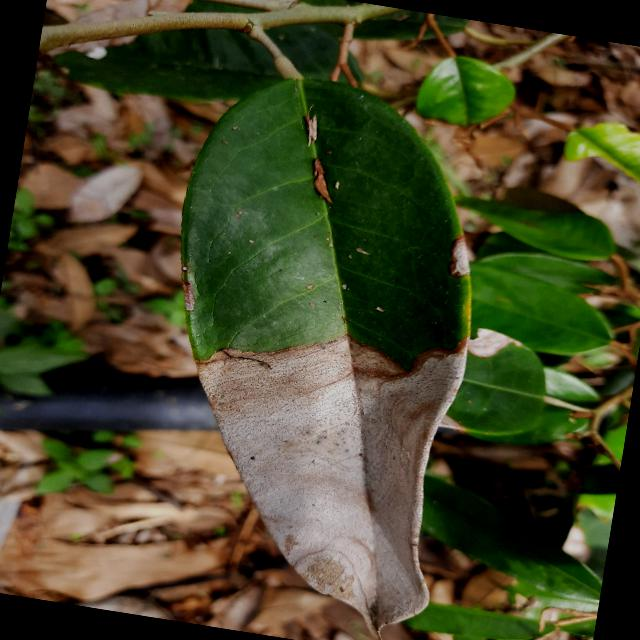Leaf Blight: (109, 38, 521, 639)
